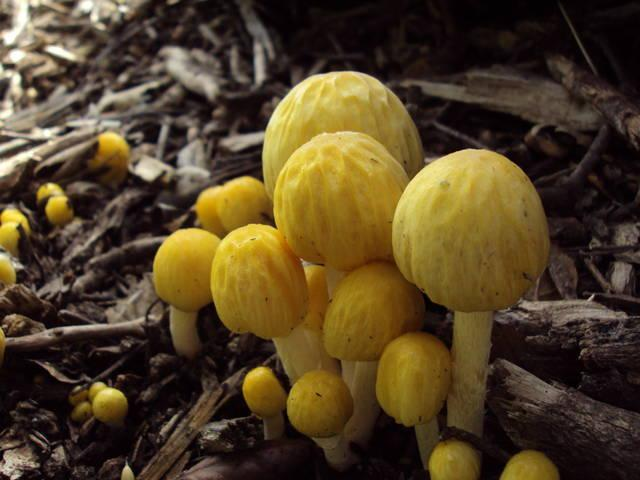Edible Mushroom: (151, 68, 552, 474), (390, 146, 551, 439)
